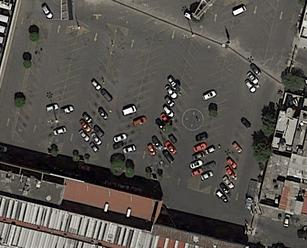parkingspot: (216, 0, 280, 203), (199, 3, 250, 191), (187, 1, 237, 181), (109, 19, 157, 164), (160, 34, 205, 179), (124, 20, 168, 164), (150, 31, 192, 172), (75, 23, 117, 156), (89, 26, 128, 160), (38, 28, 79, 143), (51, 31, 90, 148), (14, 24, 50, 142)
